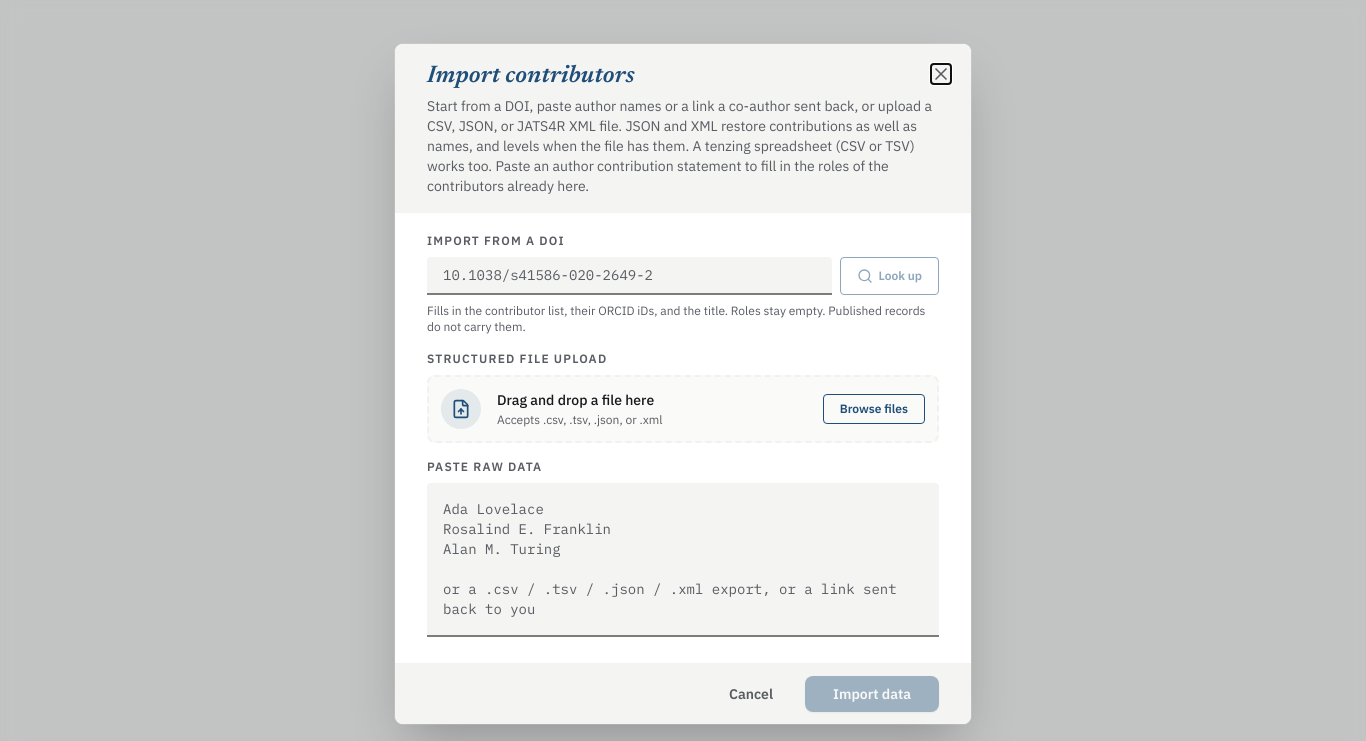
Test case: a pasted CRediT statement › forgets the choices when the text changes
Type "10.1234/abcd" into the field labelled "Import from a DOI" at (629, 276), box top-left (427, 257), bottom-right (832, 295)
Replace the text in the text box labelled "Paste raw data" with "AB: conceptualization. YL: data curation." at (683, 560), box top-left (427, 483), bottom-right (939, 637)
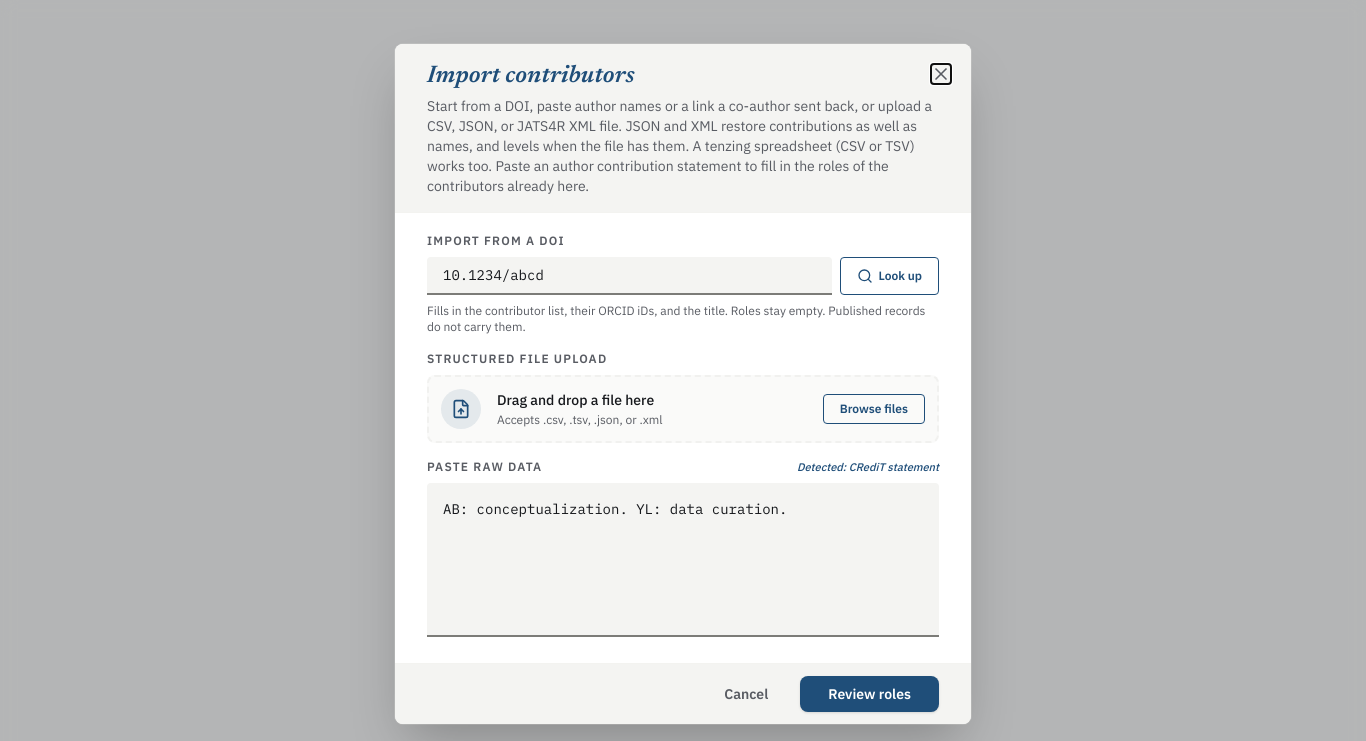
Click the button "Review roles" at (870, 694), box top-left (800, 676), bottom-right (939, 712)
(page scrolled)
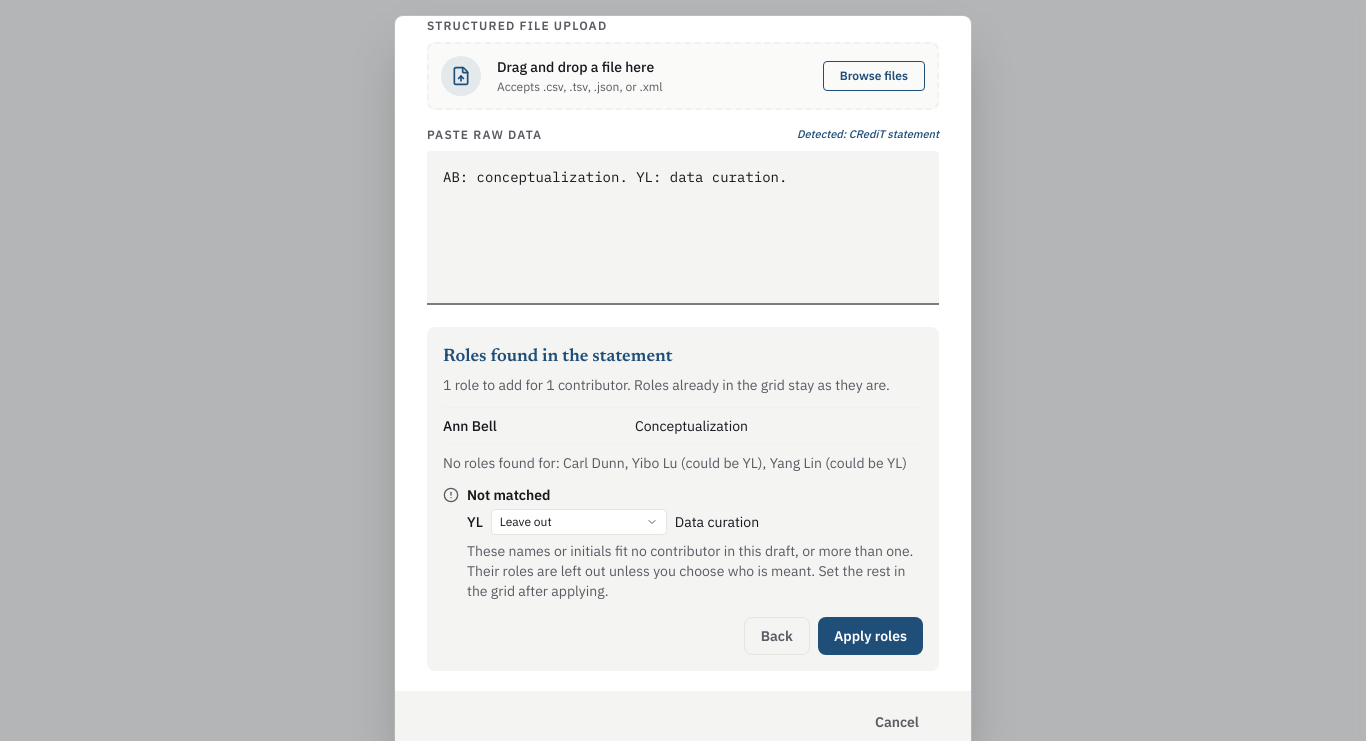
Press Enter in the dropdown named "YL", box top-left (491, 508), bottom-right (667, 534)
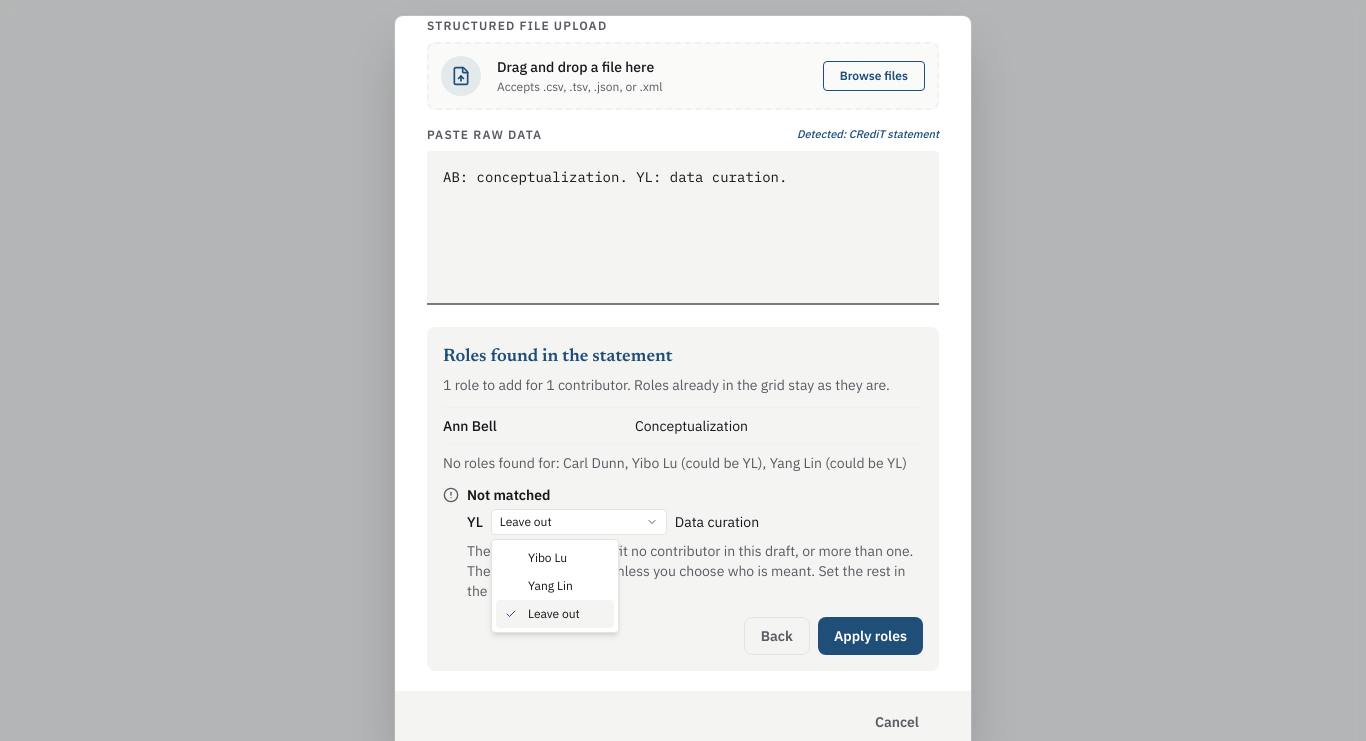
Press Enter in the option "Yibo Lu", box top-left (528, 550), bottom-right (567, 565)
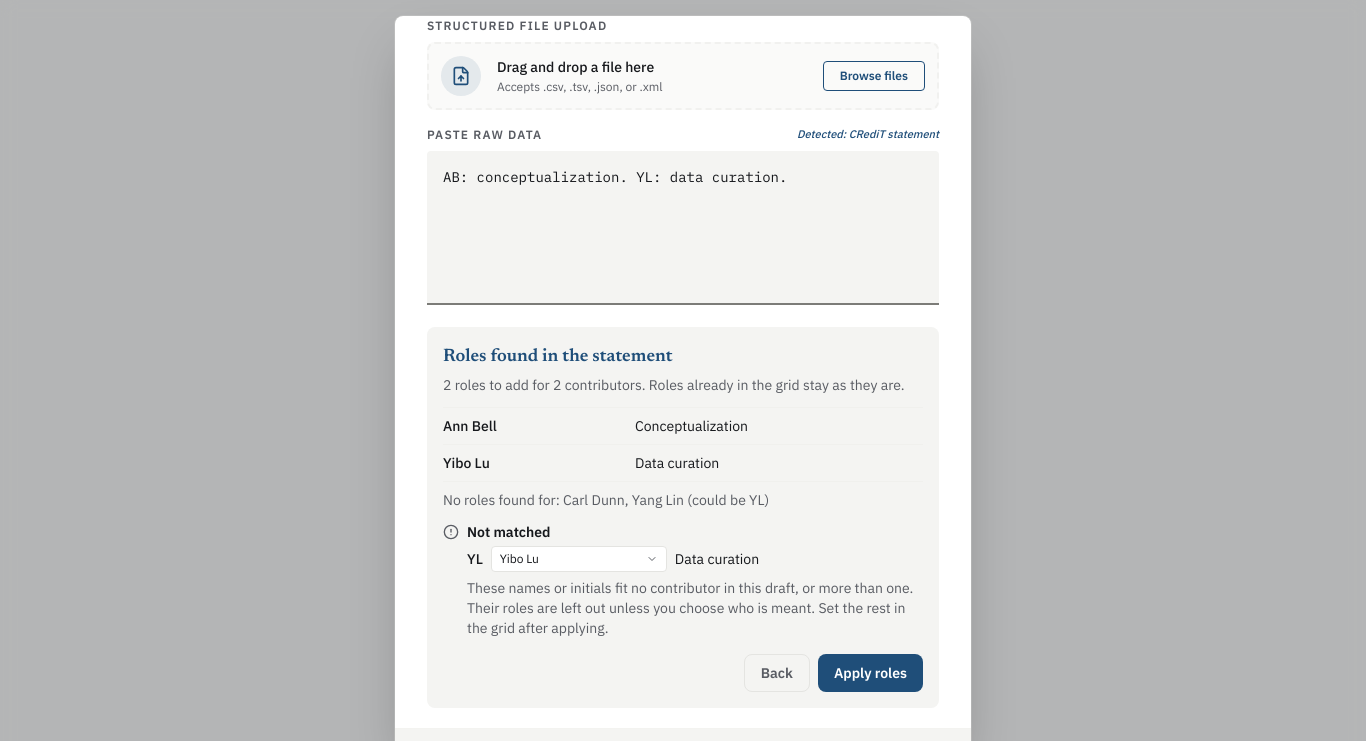
Replace the text in the text box labelled "Paste raw data" with "AB: conceptualization. YL: data curation. " at (683, 228), box top-left (427, 150), bottom-right (939, 304)
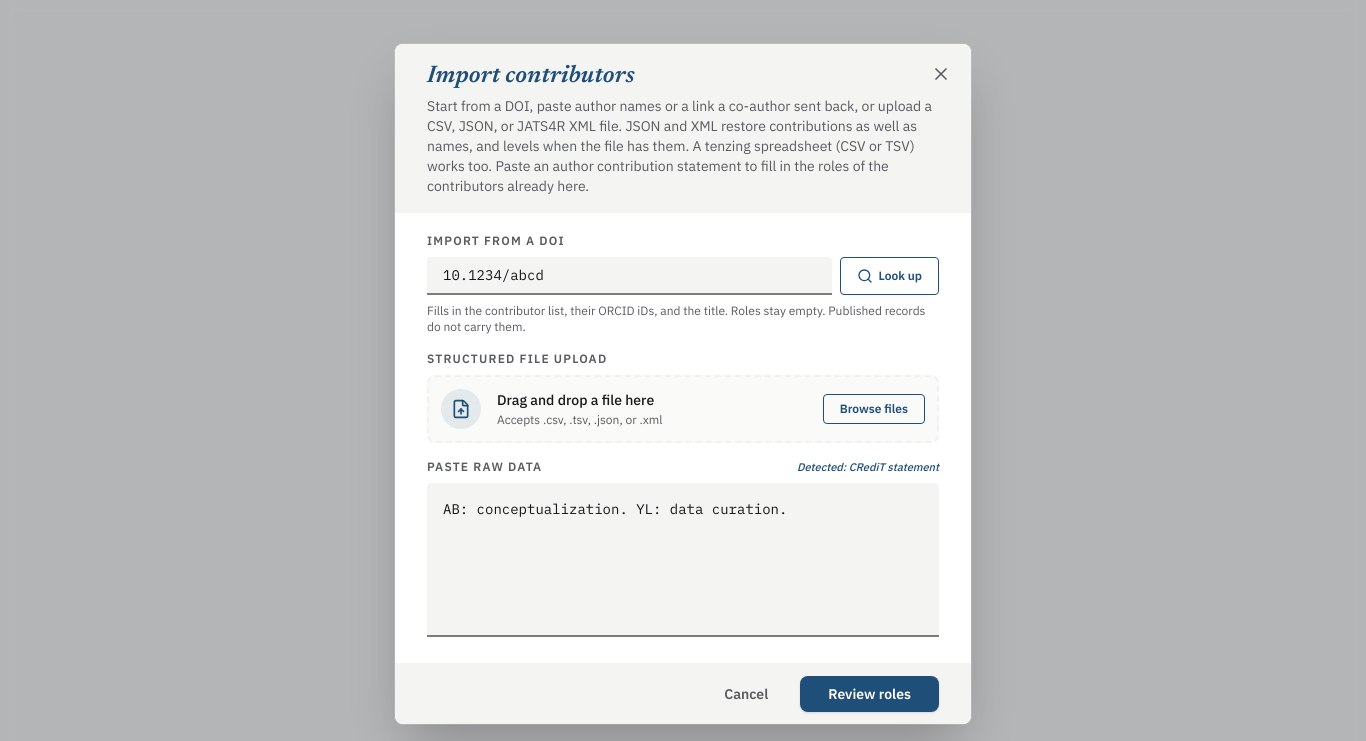
Click the button "Review roles" at (870, 694), box top-left (800, 676), bottom-right (939, 712)
(page scrolled)
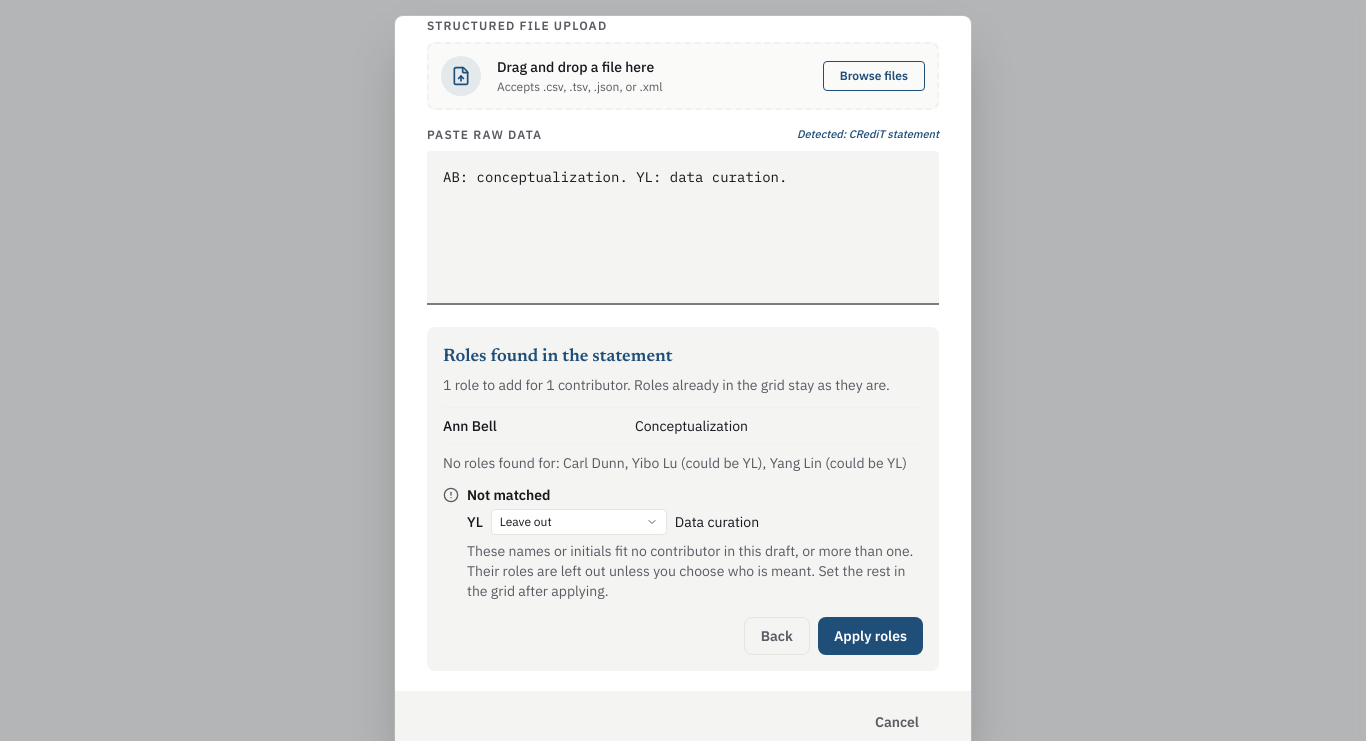
Check: the dropdown named "YL" reads "Leave out", box top-left (491, 508), bottom-right (667, 534)
Check: the text "No roles found for: " shows "Yibo Lu (could be YL)", box top-left (443, 454), bottom-right (907, 472)
